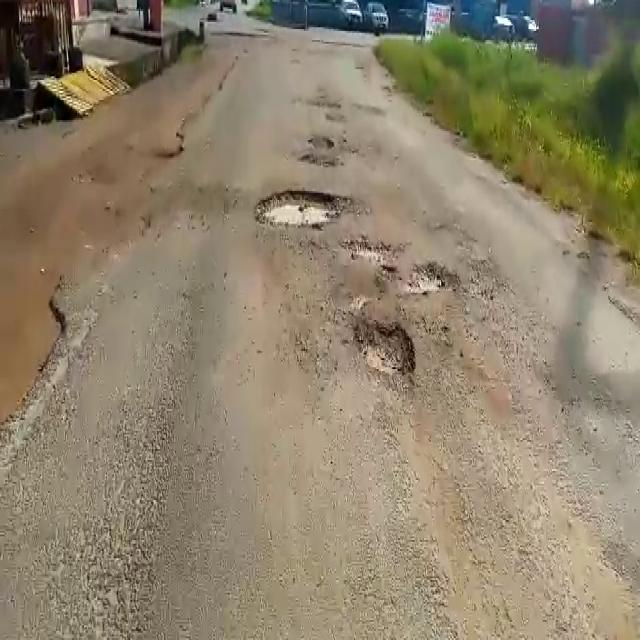Pothole: (346, 310, 417, 379), (253, 188, 354, 232), (343, 238, 404, 272), (405, 261, 459, 299)
